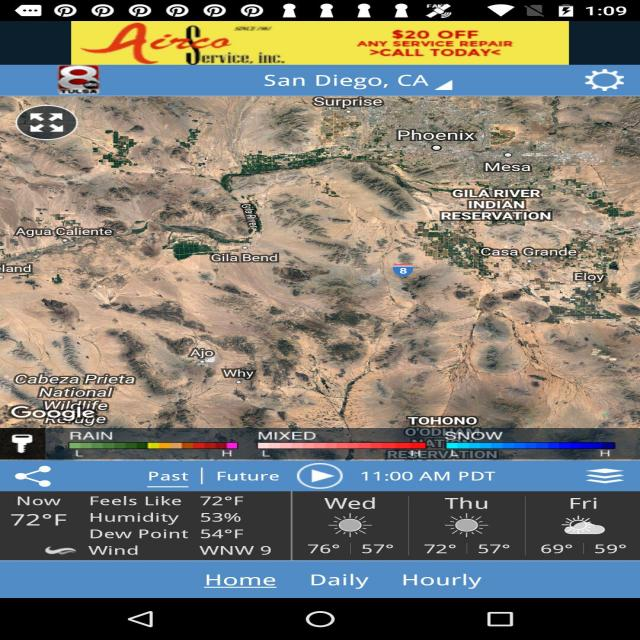image: (0, 104, 637, 428)
text: (7, 466, 635, 568)
